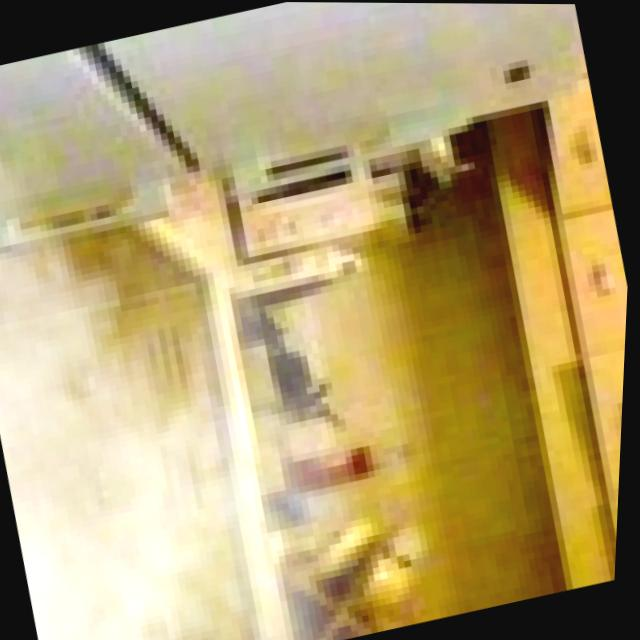smoke: (0, 15, 466, 640)
